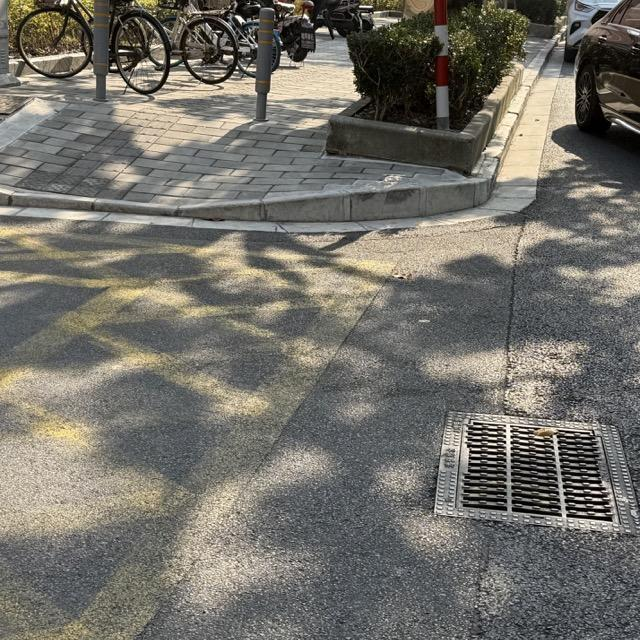curb: (206, 35, 558, 222), (327, 62, 524, 174), (0, 188, 180, 216)
